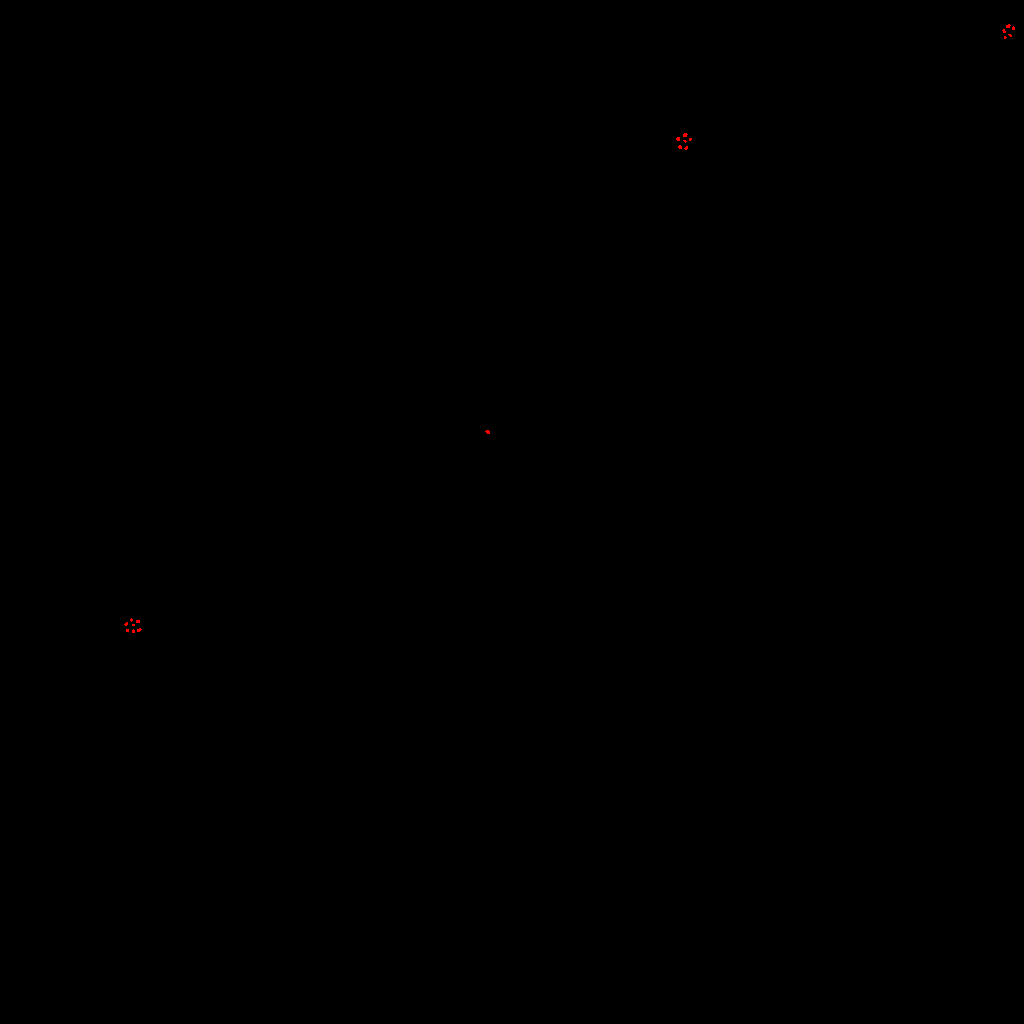Target: (1006, 24, 1011, 28), (683, 133, 688, 137), (485, 430, 490, 434), (137, 628, 142, 632), (1002, 29, 1006, 33), (676, 137, 680, 141), (678, 145, 682, 149), (684, 146, 688, 150), (124, 622, 128, 626), (1012, 26, 1015, 30), (1008, 34, 1012, 37), (683, 140, 687, 143), (130, 618, 133, 622), (136, 620, 140, 623), (132, 629, 135, 633), (1004, 36, 1007, 39), (689, 138, 692, 141), (126, 629, 129, 632), (132, 624, 135, 626)
